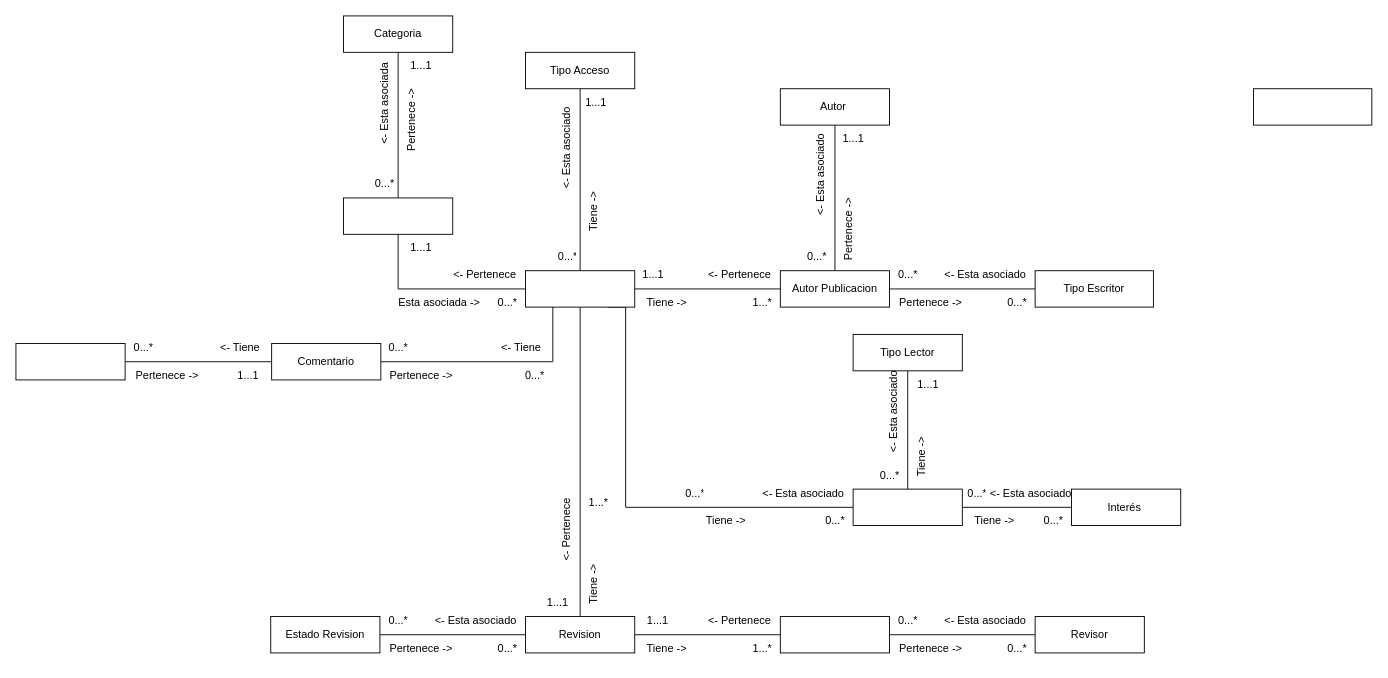
Image size: 1388x678. Some labels were removed from this diagram. Here are the shapes that lost their labels. From the top down, the centre of each, then its label:
pixel 1312 106: Usuario
pixel 398 215: Subcategoria
pixel 580 288: Publicacion
pixel 70 361: Respuesta
pixel 907 507: Lector
pixel 834 634: Detalle Revision
